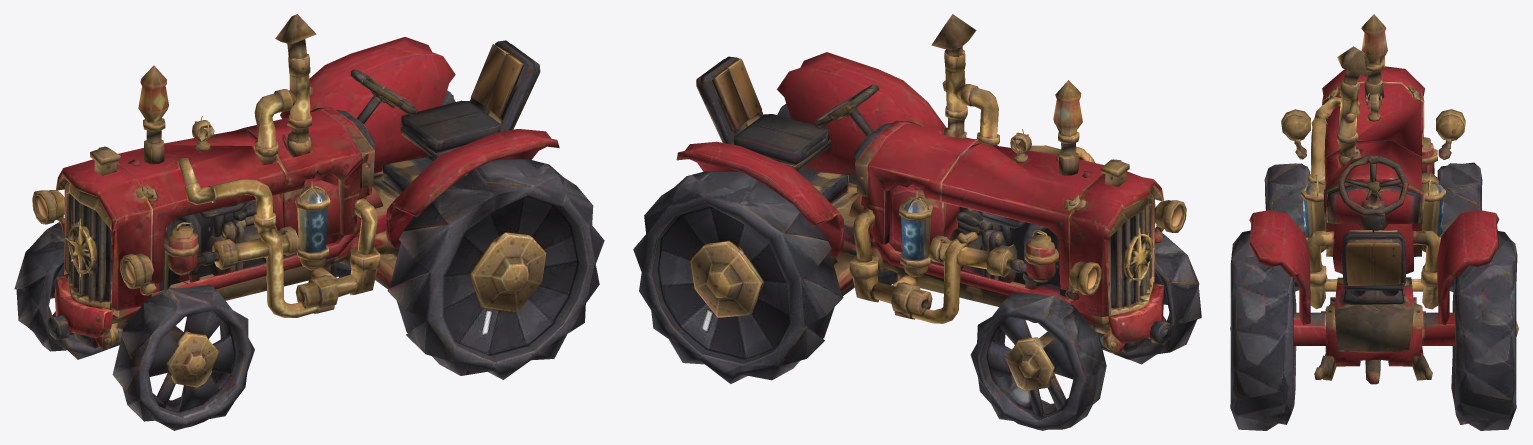
File: tractor.glb
The picture shows the model from 3 angles, left to right: view 1: azimuth 30°, elevation 25°; view 2: azimuth 150°, elevation 25°; view 3: azimuth 270°, elevation 25°; orthographic projection. The views are drawn at different scales.
Size of the model in its own units: 0.9536 by 0.6665 by 0.561.
1 material, 1 textured.
